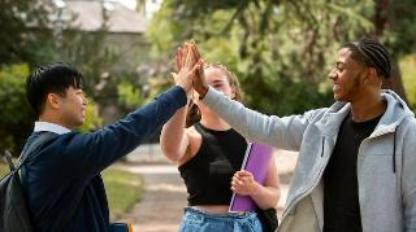person: (255, 33, 416, 232), (4, 57, 151, 232)
